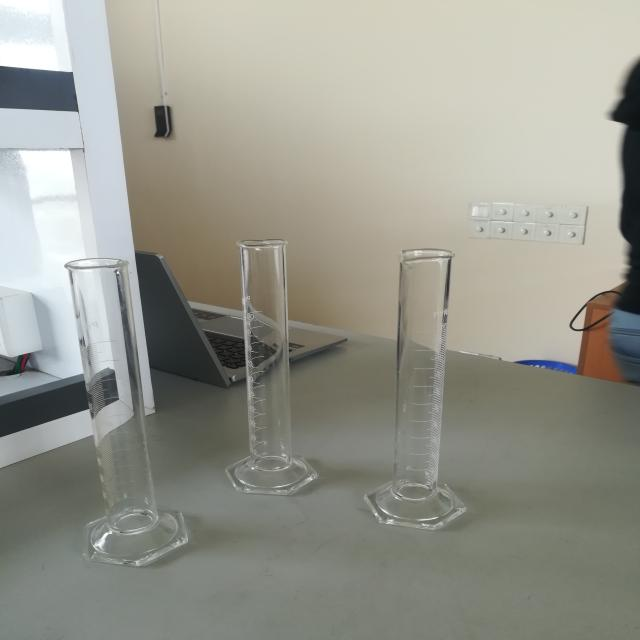Measuring_Cylinder: (35, 228, 199, 598), (358, 237, 488, 548), (214, 221, 340, 519)
